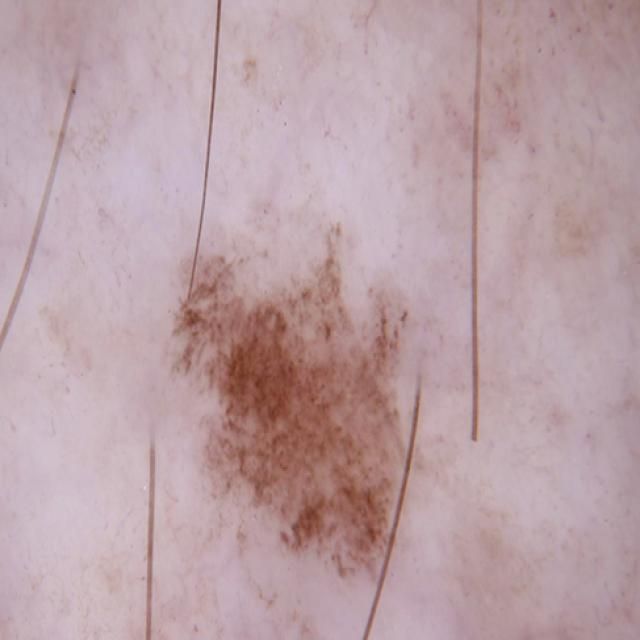Keratosis: (182, 214, 465, 635)
